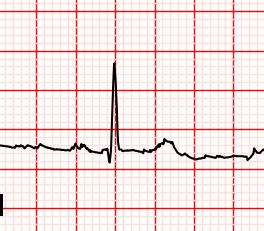Pathological Q Wave: (98, 144, 115, 170)
